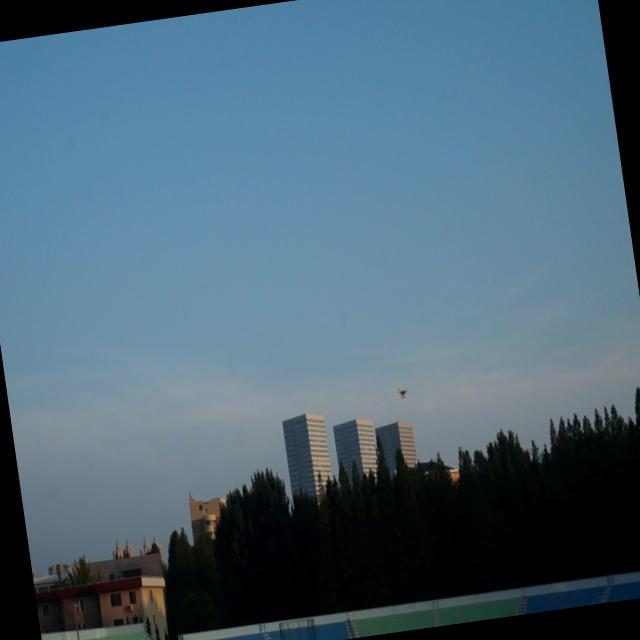drone: (395, 384, 411, 399)
